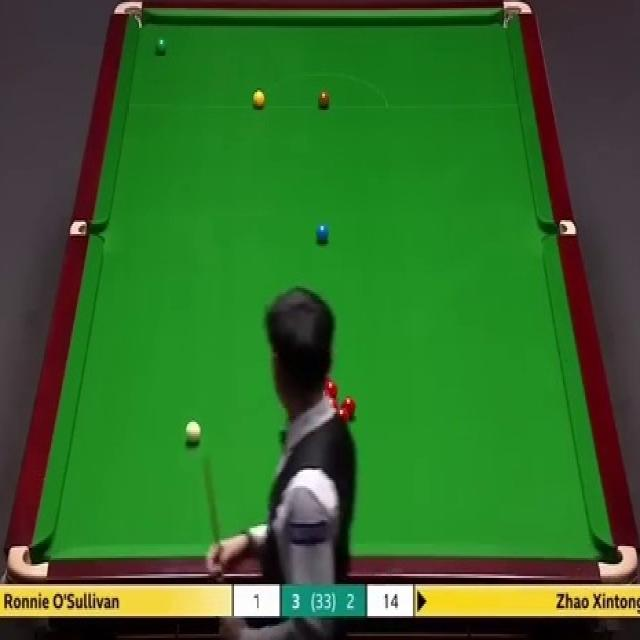pocket: (595, 542, 640, 583), (8, 543, 48, 582), (500, 0, 532, 32), (112, 0, 146, 29), (540, 218, 577, 237), (66, 221, 102, 234)
